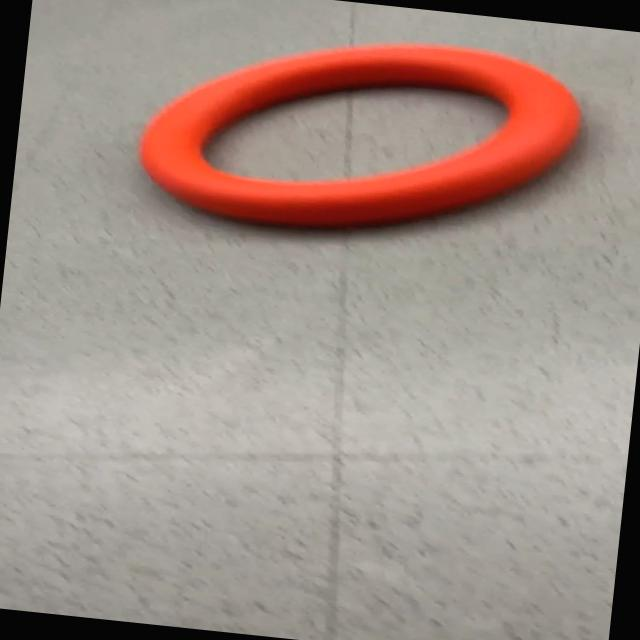note: (130, 12, 590, 258)
